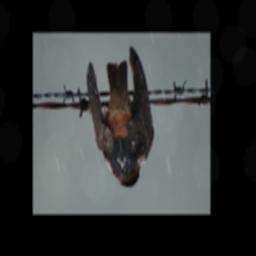Swallow: (85, 45, 154, 188)
